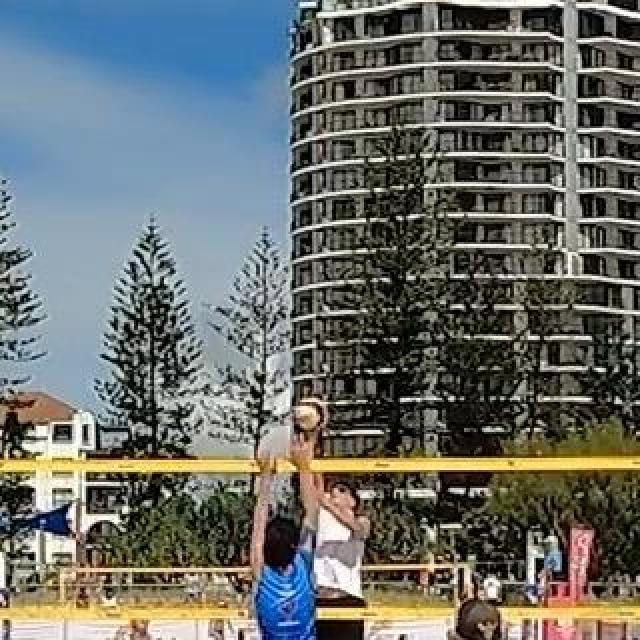volleyball: (294, 396, 330, 432)
